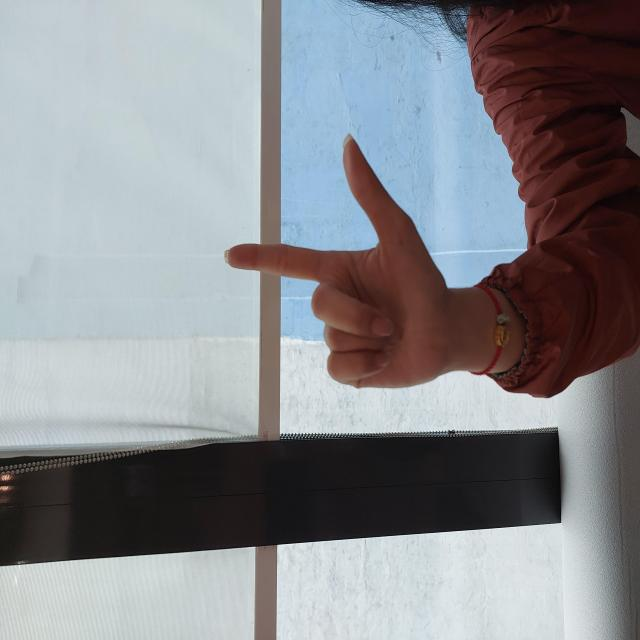L: (252, 223, 506, 452)
